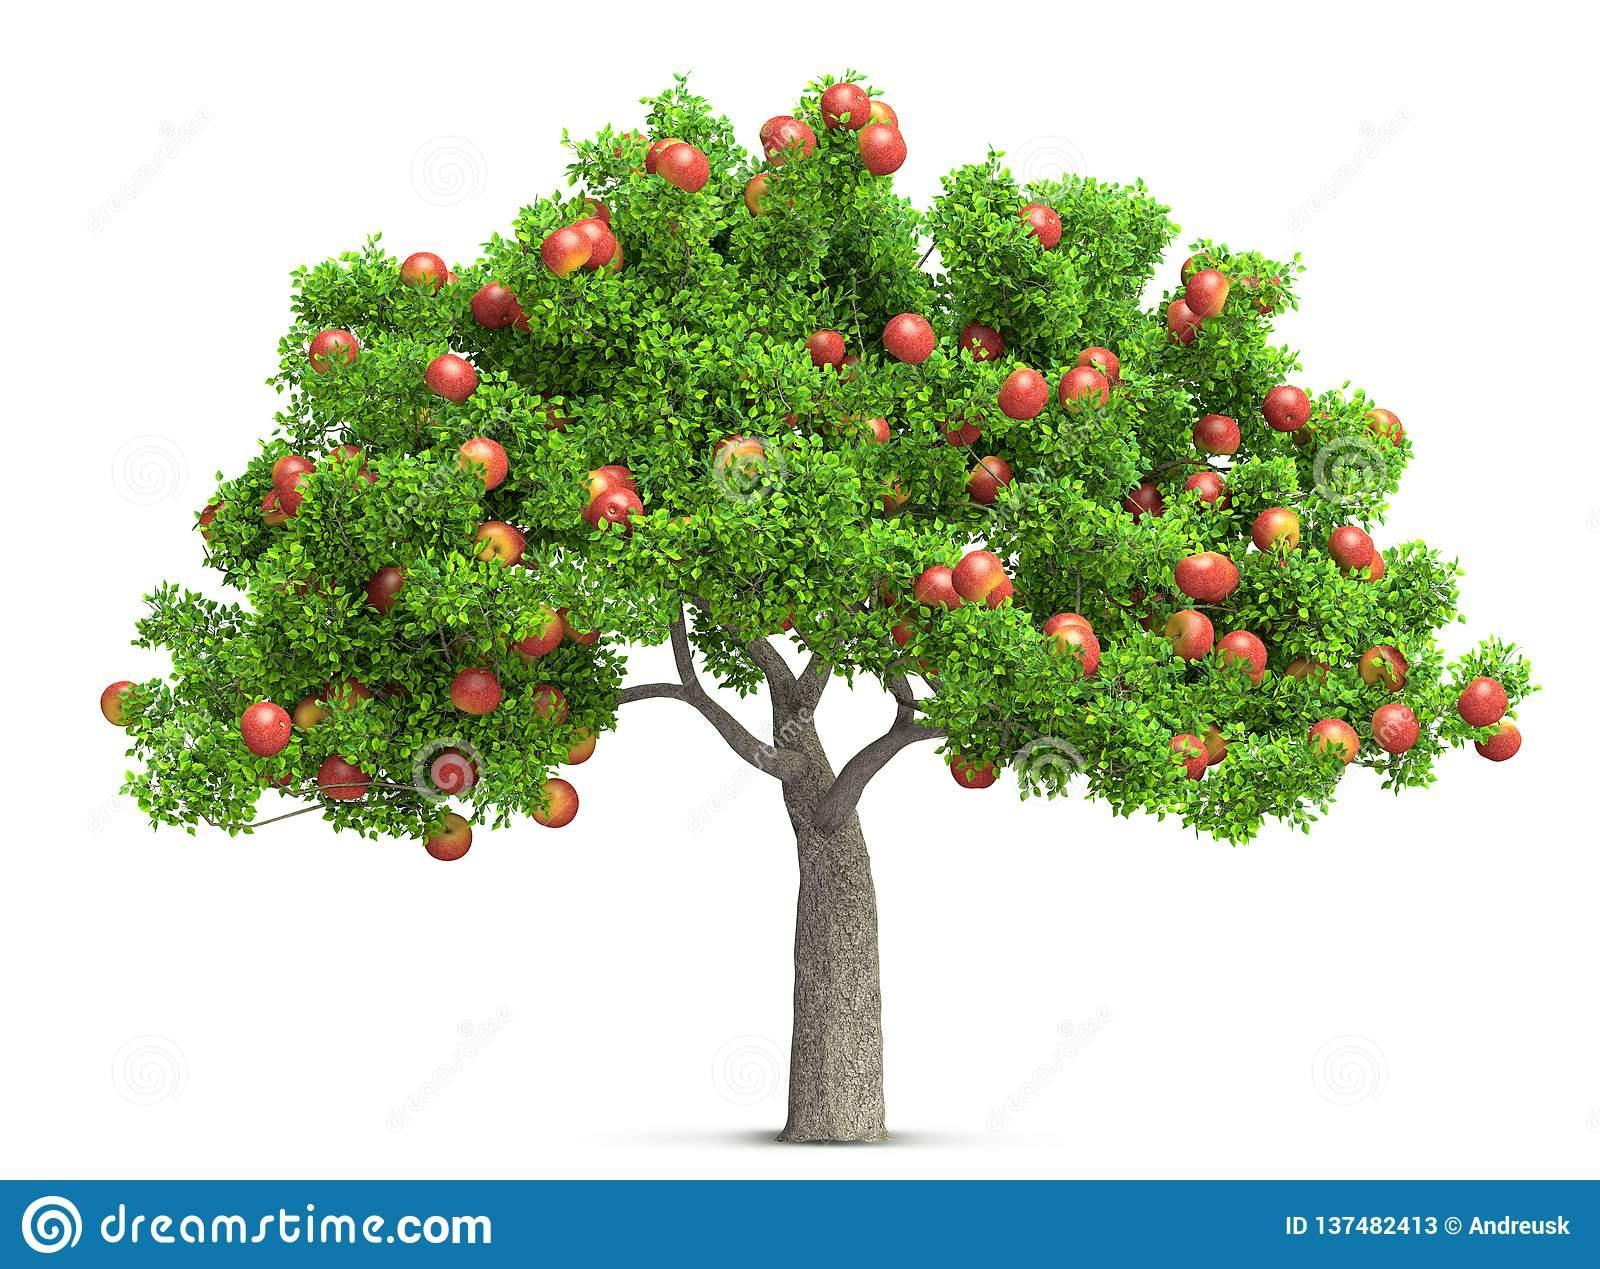apple: (242, 696, 294, 755), (423, 348, 475, 400), (997, 369, 1049, 418), (856, 123, 908, 173), (997, 365, 1049, 414), (819, 81, 871, 130), (760, 112, 812, 161), (881, 310, 932, 360), (306, 326, 357, 375), (542, 226, 592, 275), (1174, 548, 1225, 597), (456, 438, 506, 487), (419, 810, 470, 860), (471, 514, 522, 564), (279, 469, 330, 518), (656, 142, 708, 190), (1329, 523, 1378, 573), (1252, 501, 1301, 551), (1194, 407, 1242, 457), (426, 353, 477, 401), (1049, 620, 1100, 668), (1473, 714, 1523, 762), (953, 549, 1004, 597), (1262, 383, 1310, 433), (1371, 700, 1419, 749), (1218, 627, 1268, 675), (1458, 674, 1506, 723), (1164, 609, 1214, 656), (1016, 199, 1061, 249), (1184, 266, 1230, 317), (401, 249, 447, 297), (803, 323, 849, 369), (99, 681, 144, 727), (534, 779, 579, 826), (477, 518, 521, 565), (453, 668, 497, 714), (519, 607, 564, 653)
